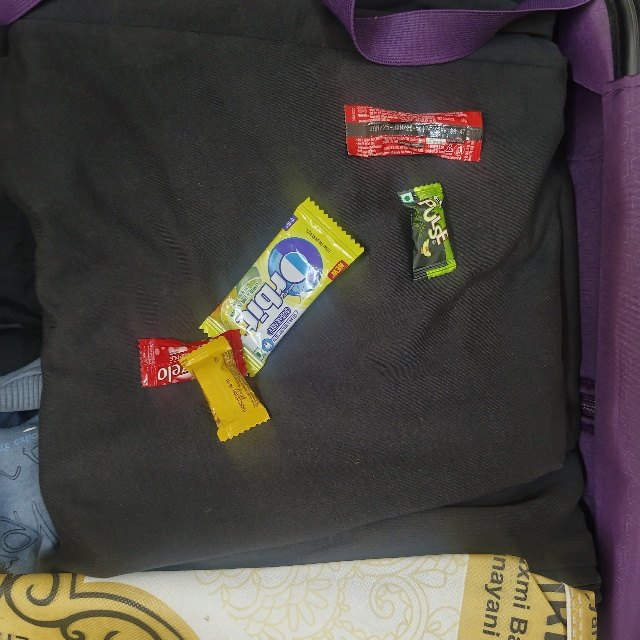Alpenlibe Creamfills: (181, 354, 234, 451)
Mazelo: (137, 342, 241, 384)
Nescafe Coffee: (343, 104, 484, 162)
Orbit: (195, 333, 373, 407)
Pulse: (390, 195, 446, 287)
